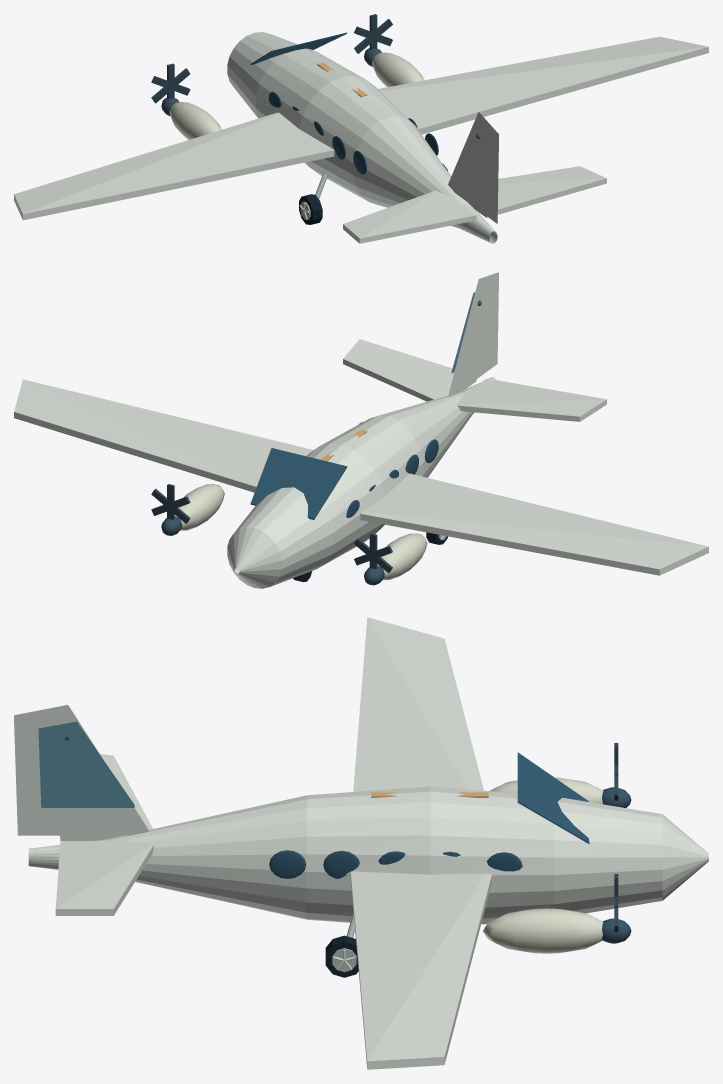
File: twin.glb
3 renders of one model, top to bottom at view 1: azimuth 30°, elevation 25°; view 2: azimuth 150°, elevation 25°; view 3: azimuth 270°, elevation 25°, orthographic. The views are drawn at different scales.
Visible parts, largest first — view 1: twin; view 2: twin; view 3: twin.
Part boxes in pixels (x1=…): twin: x1=14, y1=14, x2=708, y2=243; twin: x1=14, y1=272, x2=708, y2=588; twin: x1=14, y1=617, x2=708, y2=1069.
Bounding box in the file's own units: 17.95 × 4.31 × 11.87.
